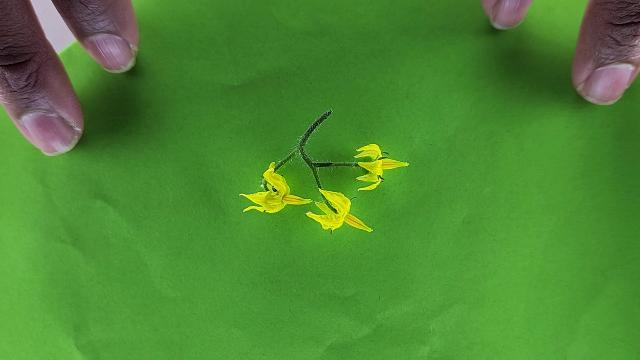Anthesis: (238, 163, 313, 214), (305, 186, 374, 235), (353, 143, 411, 191)
